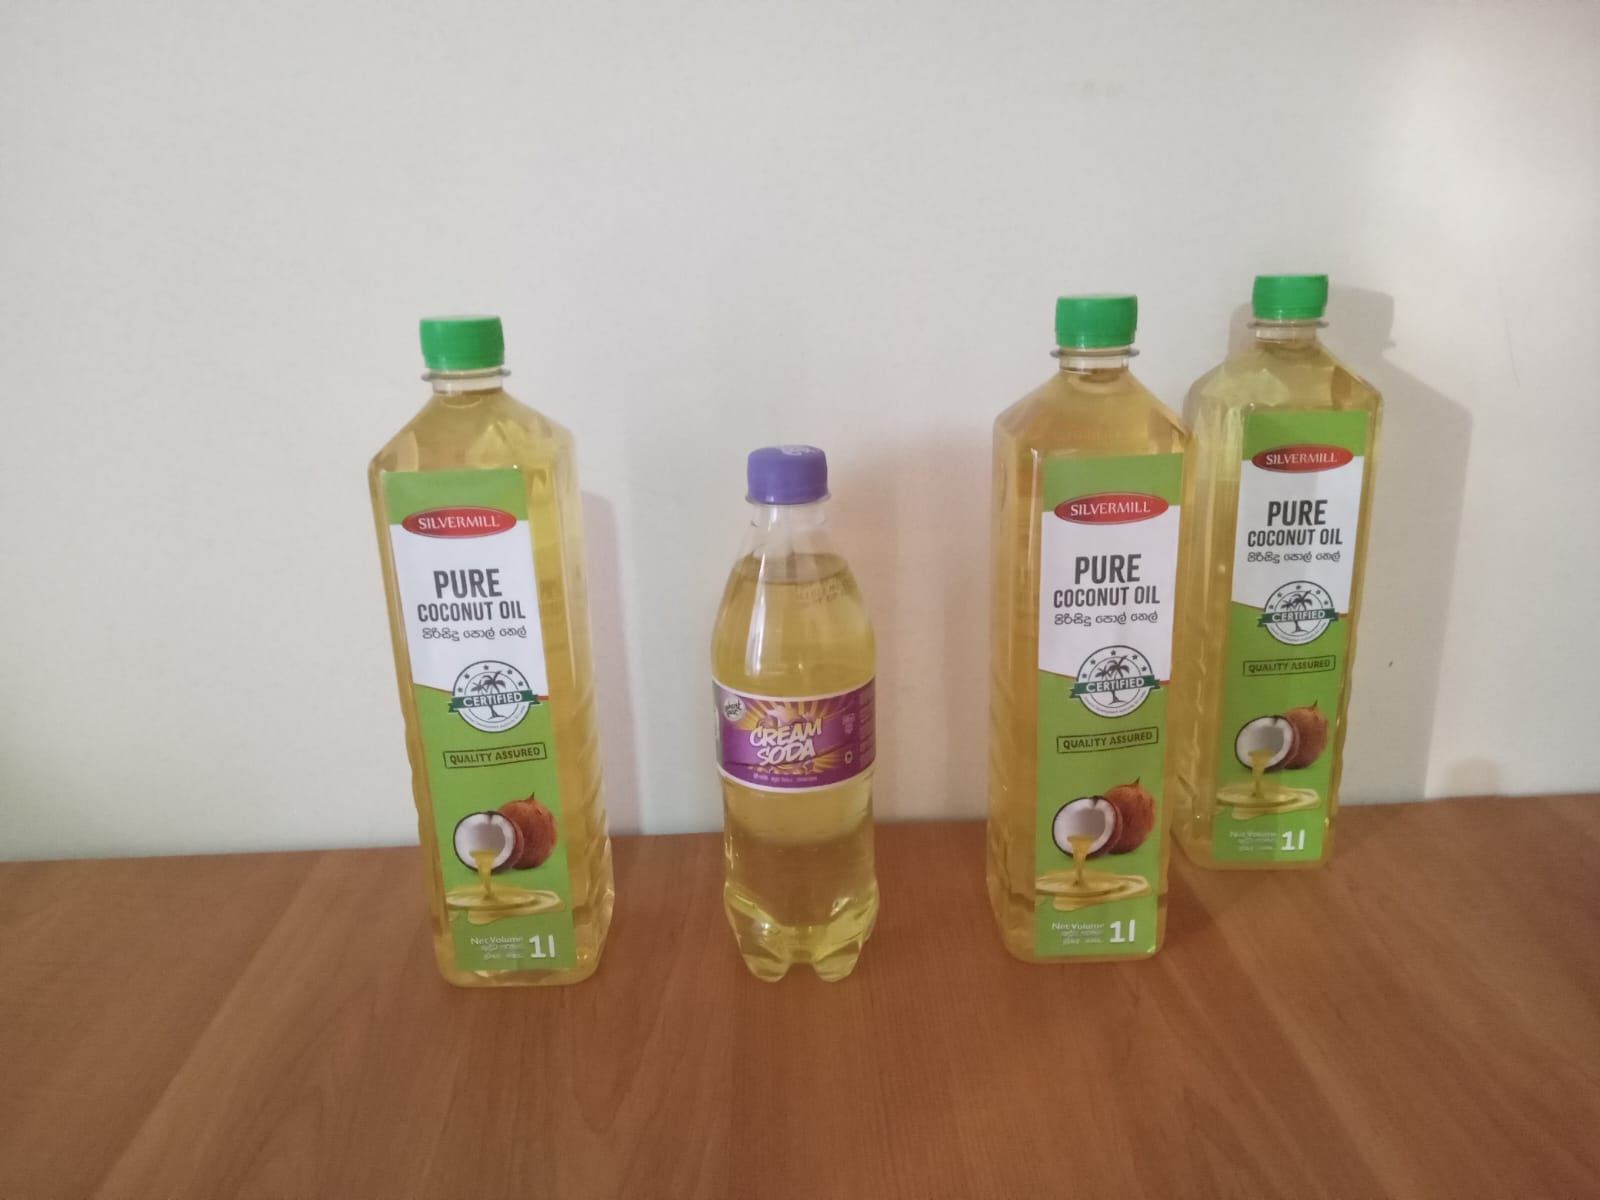S: (707, 446, 898, 983)
